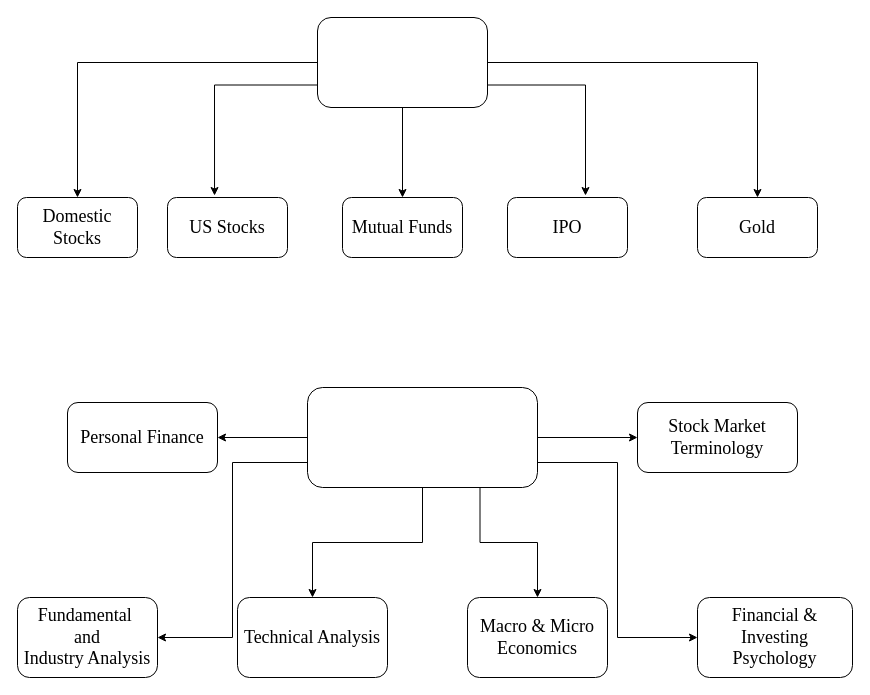
Image size: 870x695. Some labels were removed from this diagram. The shapes that lost their labels are listed below. From the top down, each one's centre as x and y in pixels, then its label:
At pixel 402 62: "Discover".
At pixel 422 437: "Learn&Invest".
